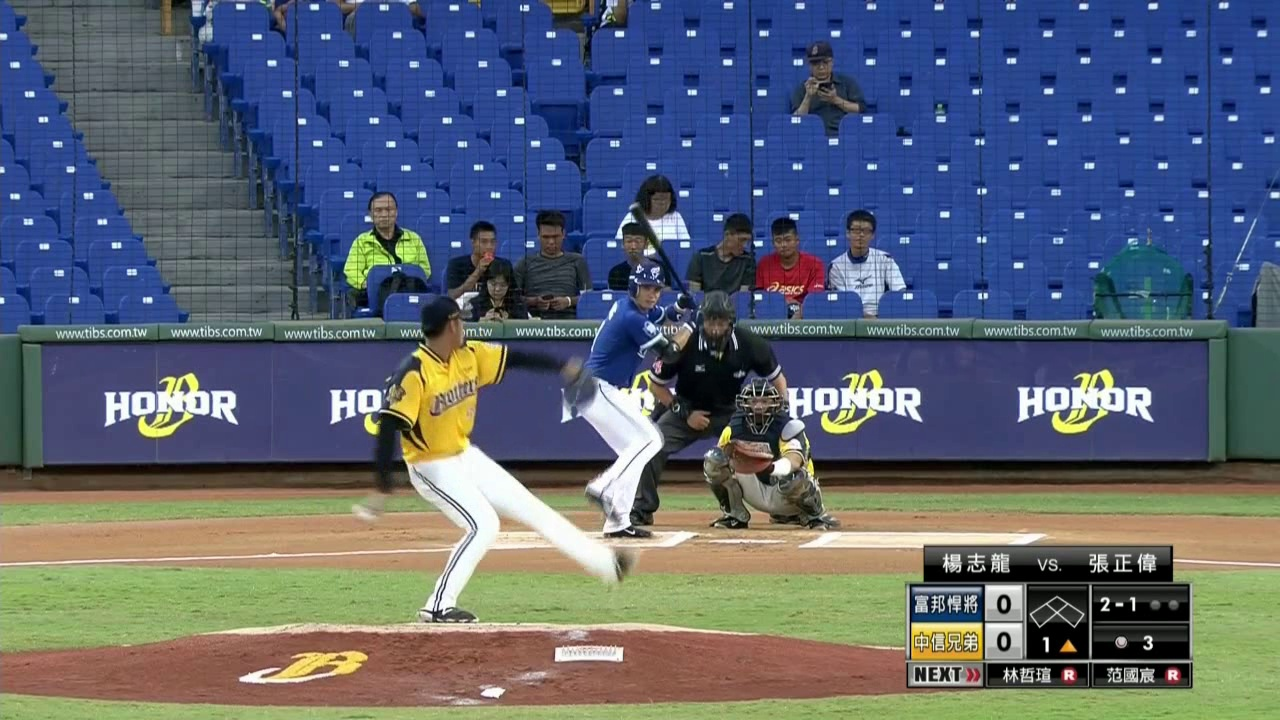ball: (352, 502, 379, 525)
base: (1027, 593, 1087, 629)
bat: (624, 200, 691, 300)
out: (1147, 597, 1180, 611)
score1: (985, 584, 1022, 620)
score2: (985, 623, 1022, 659)
session: (1036, 635, 1082, 655)
strikeball: (1095, 595, 1140, 614)
total: (1107, 624, 1162, 652)
